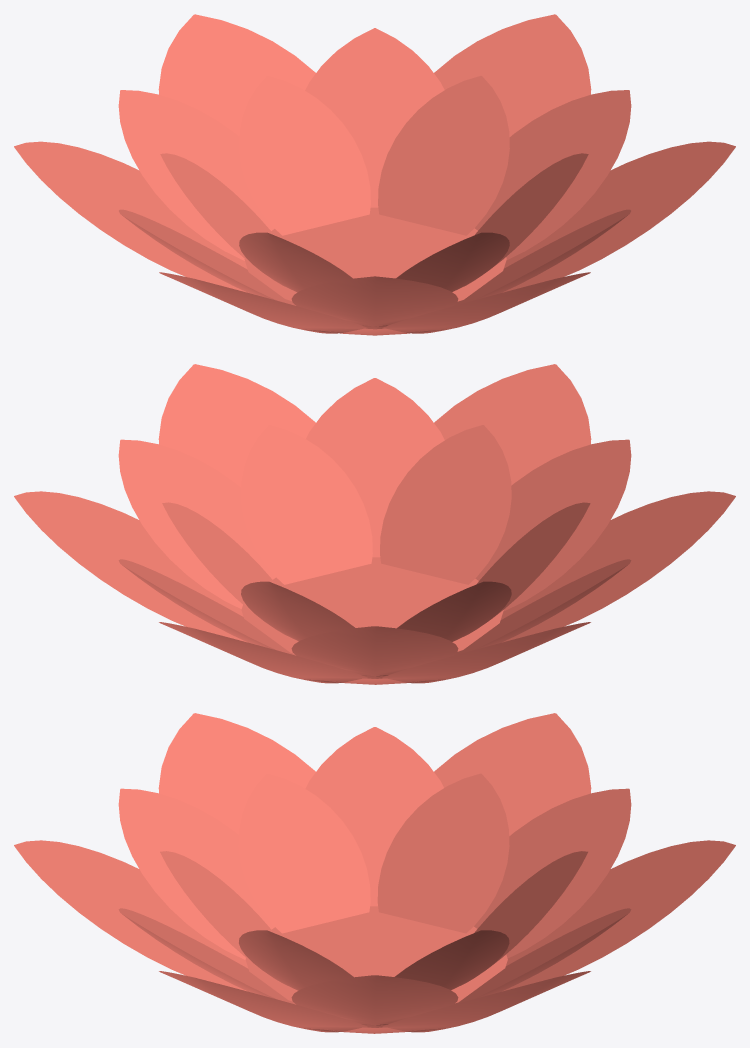
File: lotus.dae
3 renders of one model, top to bottom at view 1: azimuth 30°, elevation 25°; view 2: azimuth 150°, elevation 25°; view 3: azimuth 270°, elevation 25°, orthographic.
Visible parts, largest first — view 1: group_1 (×6), group_19 (×2), group_2 (×6), group_16 (×2), group_11, group_28, group_8 (×2), group_9; view 2: group_1 (×6), group_16 (×4), group_2 (×4), group_28, group_19 (×2), group_9 (×2), group_8, group_20; view 3: group_1 (×7), group_8 (×2), group_16 (×2), group_2 (×5), group_11, group_28, group_20 (×2), group_19.
Boxes of the visible parts, left/top/right/bottom form: group_1 (×6): left=118, top=14, right=735, bottom=305; group_19 (×2): left=305, top=28, right=509, bottom=235; group_2 (×6): left=159, top=215, right=627, bottom=333; group_16 (×2): left=475, top=90, right=631, bottom=269; group_11: left=14, top=141, right=247, bottom=292; group_28: left=244, top=207, right=506, bottom=301; group_8 (×2): left=119, top=153, right=295, bottom=305; group_9: left=122, top=215, right=276, bottom=300; group_1 (×6): left=14, top=364, right=735, bottom=642; group_16 (×4): left=118, top=425, right=631, bottom=618; group_2 (×4): left=159, top=581, right=590, bottom=683; group_28: left=241, top=557, right=503, bottom=653; group_19 (×2): left=118, top=502, right=295, bottom=655; group_9 (×2): left=397, top=565, right=627, bottom=650; group_8: left=454, top=559, right=631, bottom=655; group_20: left=122, top=565, right=276, bottom=650; group_1 (×7): left=14, top=713, right=735, bottom=1004; group_8 (×2): left=305, top=727, right=509, bottom=933; group_16 (×2): left=118, top=773, right=370, bottom=959; group_2 (×5): left=122, top=914, right=590, bottom=1032; group_11: left=434, top=713, right=591, bottom=835; group_28: left=245, top=906, right=507, bottom=1003; group_20 (×2): left=395, top=914, right=627, bottom=999; group_19: left=454, top=908, right=631, bottom=1004.
Size of the model in its own units: 10.6 by 12.17 by 2.97.
